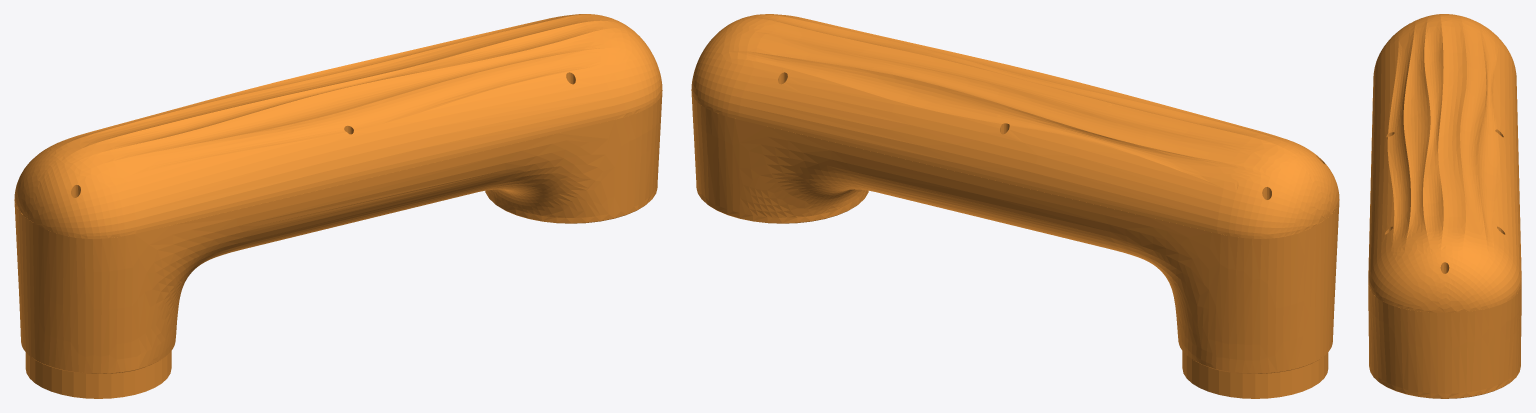
The model's file is DobotNova2Link2.dae.
3 renders of one model, left to right at view 1: azimuth 30°, elevation 25°; view 2: azimuth 150°, elevation 25°; view 3: azimuth 270°, elevation 25°, orthographic. The views are drawn at different scales.
Visible parts, largest first — view 1: DobotNova2Link2; view 2: DobotNova2Link2; view 3: DobotNova2Link2.
Part boxes in pixels (<box>): DobotNova2Link2: <box>14,14,662,398</box>; DobotNova2Link2: <box>691,14,1339,398</box>; DobotNova2Link2: <box>1368,14,1521,398</box>.
Bounding box in the file's own units: 0.3667 × 0.09 × 0.1295.
